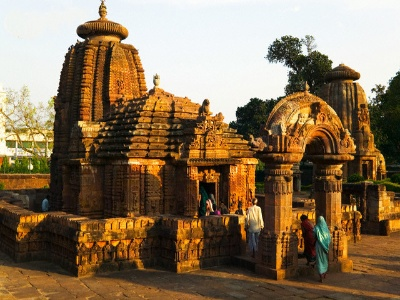amalaka: (72, 16, 140, 41)
gopuram: (55, 40, 152, 147)
torana: (257, 79, 356, 263)
